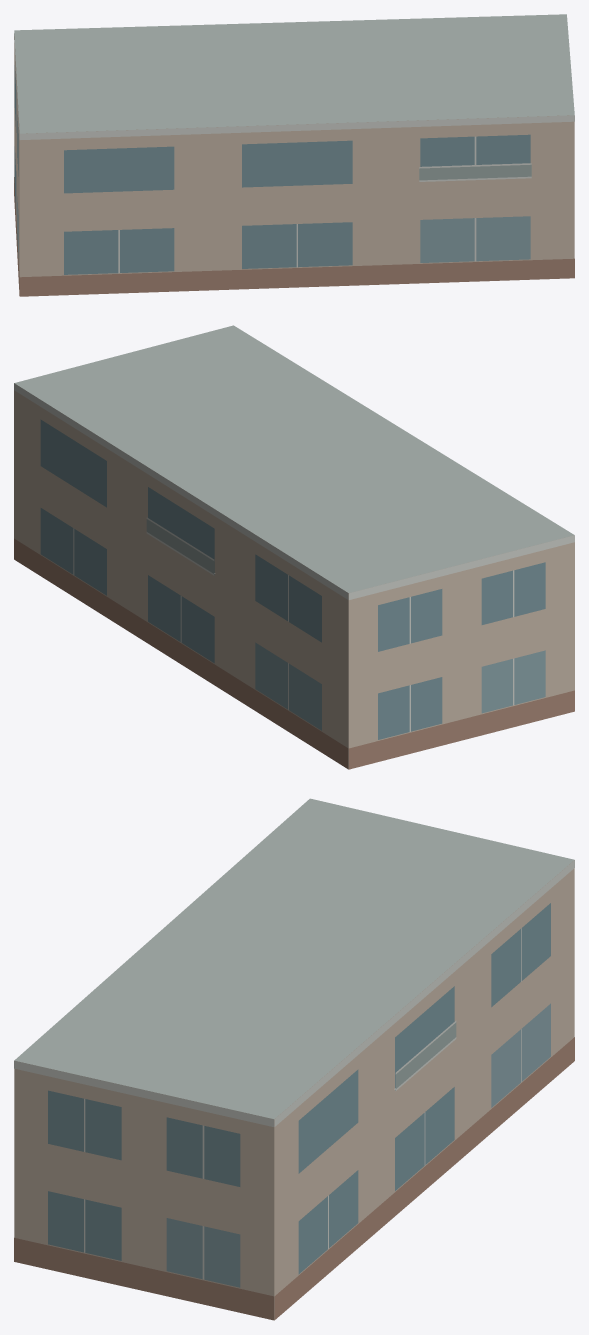
File: survey-upis-32894253.glb
The picture shows the model from 3 angles, top to bottom: view 1: azimuth 30°, elevation 25°; view 2: azimuth 150°, elevation 25°; view 3: azimuth 270°, elevation 25°; orthographic projection. The views are drawn at different scales.
Parts seen in each view (by area): view 1: survey-upis-32894253.tmp; view 2: survey-upis-32894253.tmp; view 3: survey-upis-32894253.tmp.
Boxes of the visible parts, left/top/right/bottom form: survey-upis-32894253.tmp: left=14, top=14, right=574, bottom=296; survey-upis-32894253.tmp: left=14, top=325, right=574, bottom=769; survey-upis-32894253.tmp: left=14, top=798, right=574, bottom=1320.
Size of the model in its own units: 20.87 by 6.1 by 15.42.
